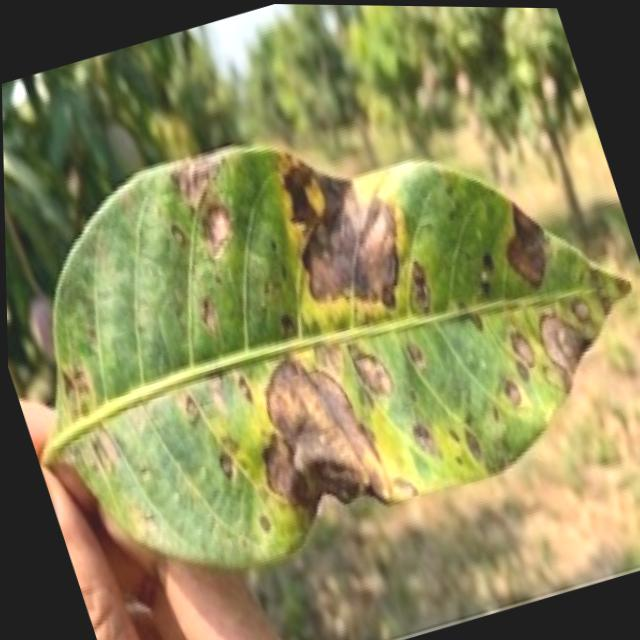Anthracnose: (298, 175, 407, 308), (525, 309, 593, 375), (500, 206, 554, 288), (166, 146, 232, 210), (350, 349, 397, 403), (202, 205, 233, 256), (500, 381, 525, 407), (510, 336, 532, 363), (464, 431, 483, 461), (236, 375, 254, 403), (201, 299, 215, 333), (216, 454, 235, 479), (171, 223, 187, 249), (514, 361, 530, 383), (572, 303, 589, 321), (259, 514, 272, 531)
Bacterial Cancer: (293, 195, 410, 302), (271, 382, 358, 500), (503, 220, 559, 278)
